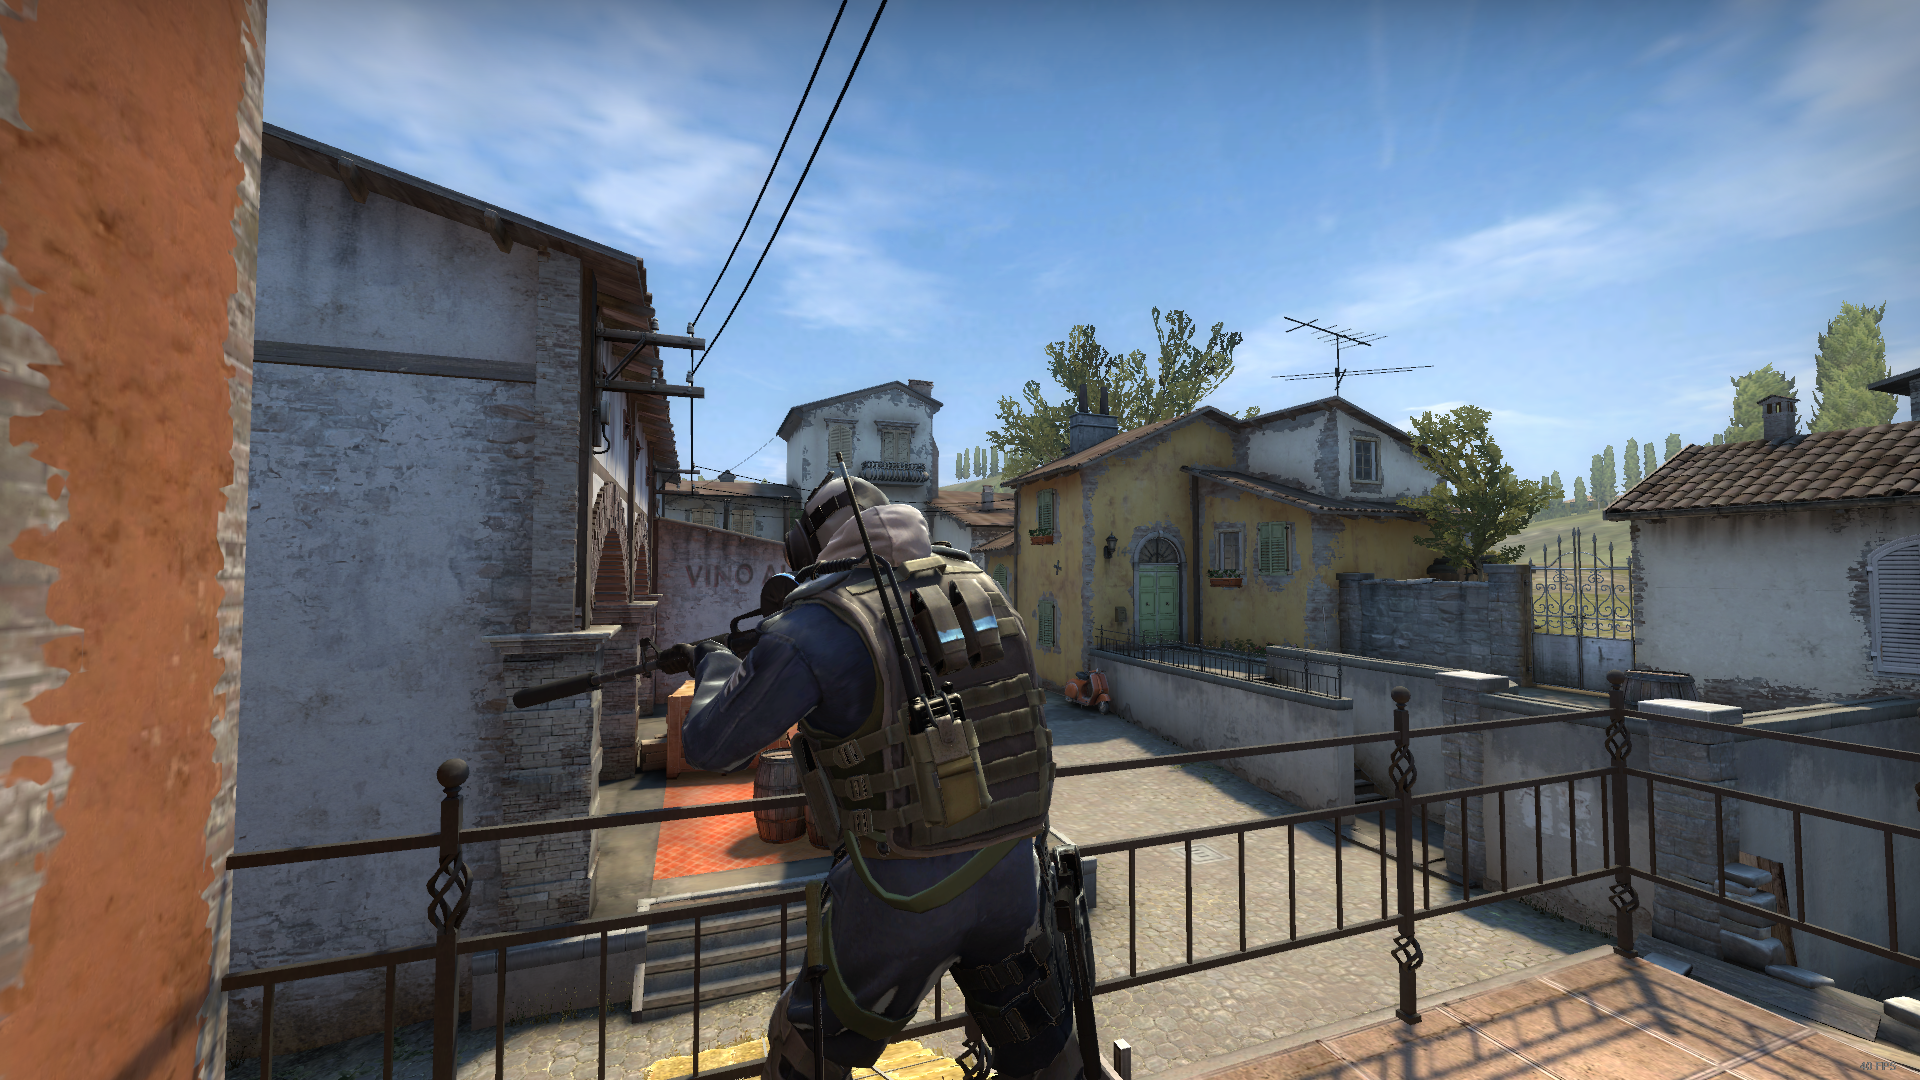ct: (682, 473, 1106, 1080)
